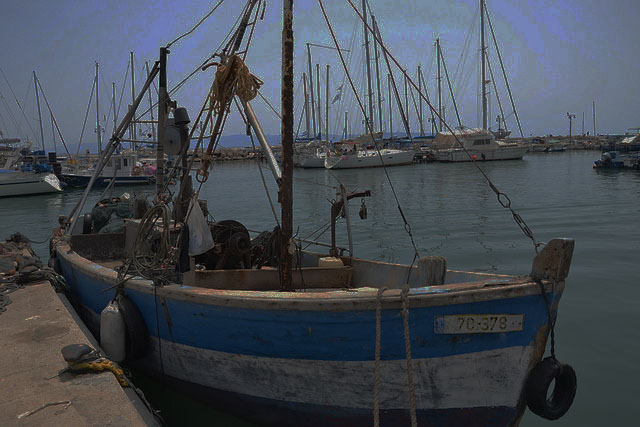boat: (427, 1, 528, 162), (325, 24, 413, 165)
fishing_boat: (54, 43, 578, 420)
